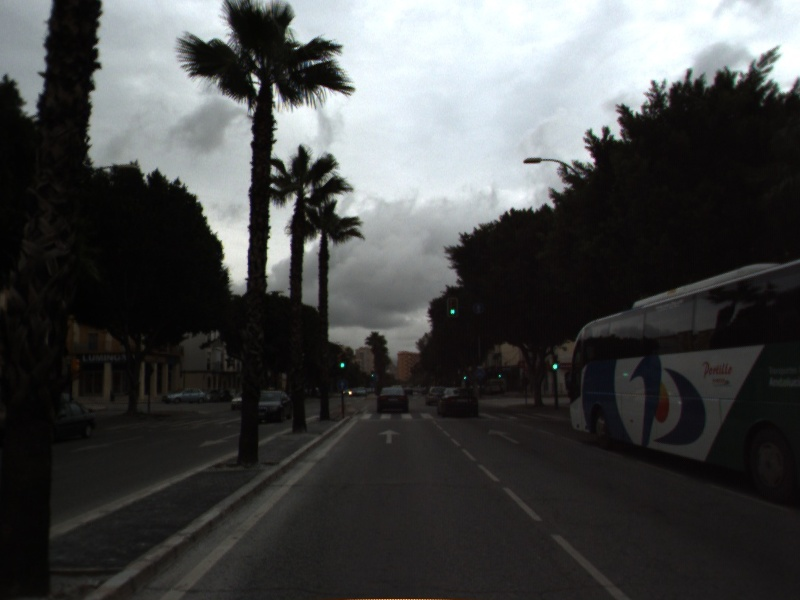STRAIGHT: (486, 426, 522, 446), (376, 427, 403, 446)
